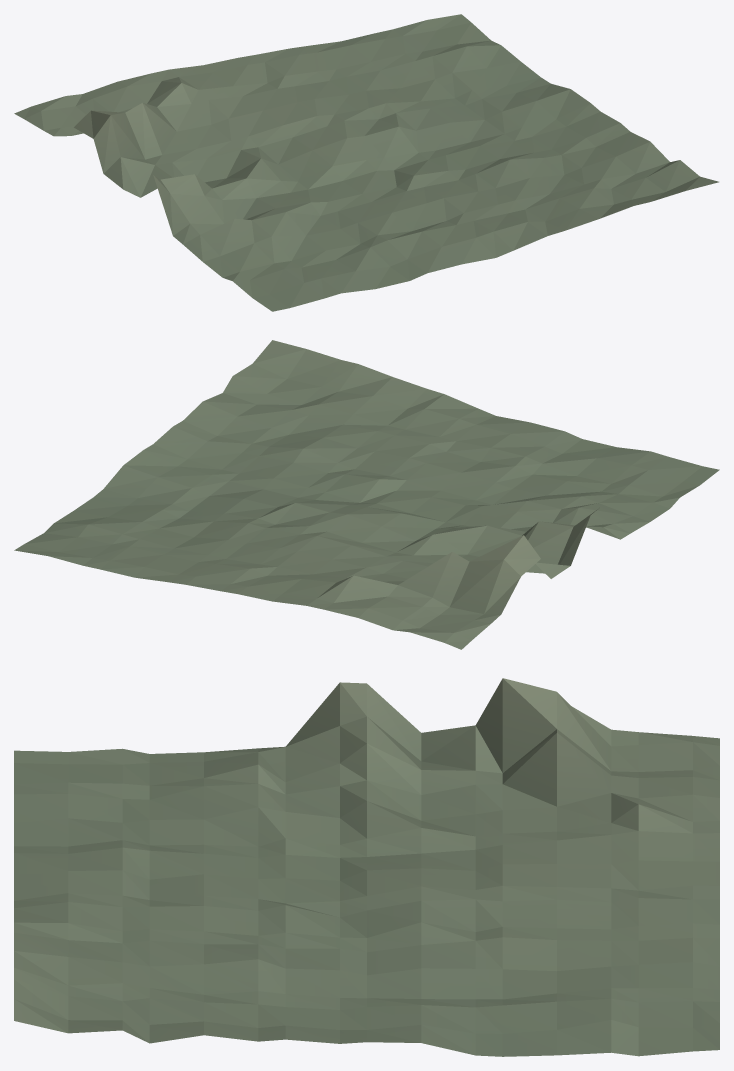
File: tile_0_0.glb
3 views of the same model, one above another, from view 1: azimuth 30°, elevation 25°; view 2: azimuth 150°, elevation 25°; view 3: azimuth 270°, elevation 25° (orthographic). The views are drawn at different scales.
Visible parts, largest first — view 1: geometry_0; view 2: geometry_0; view 3: geometry_0.
Boxes of the visible parts, x1,y1,x2,y2 form: geometry_0: (14,14,718,311); geometry_0: (14,340,719,649); geometry_0: (14,678,719,1056).
Bounding box in the file's own units: 127 × 18.3 × 127.
